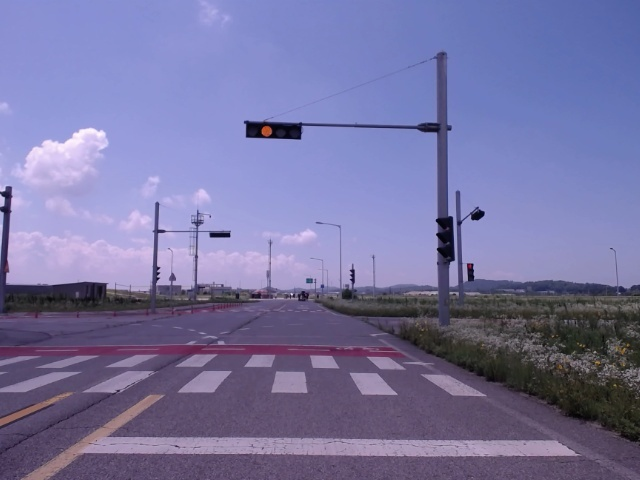orange_4: (246, 122, 302, 140)
